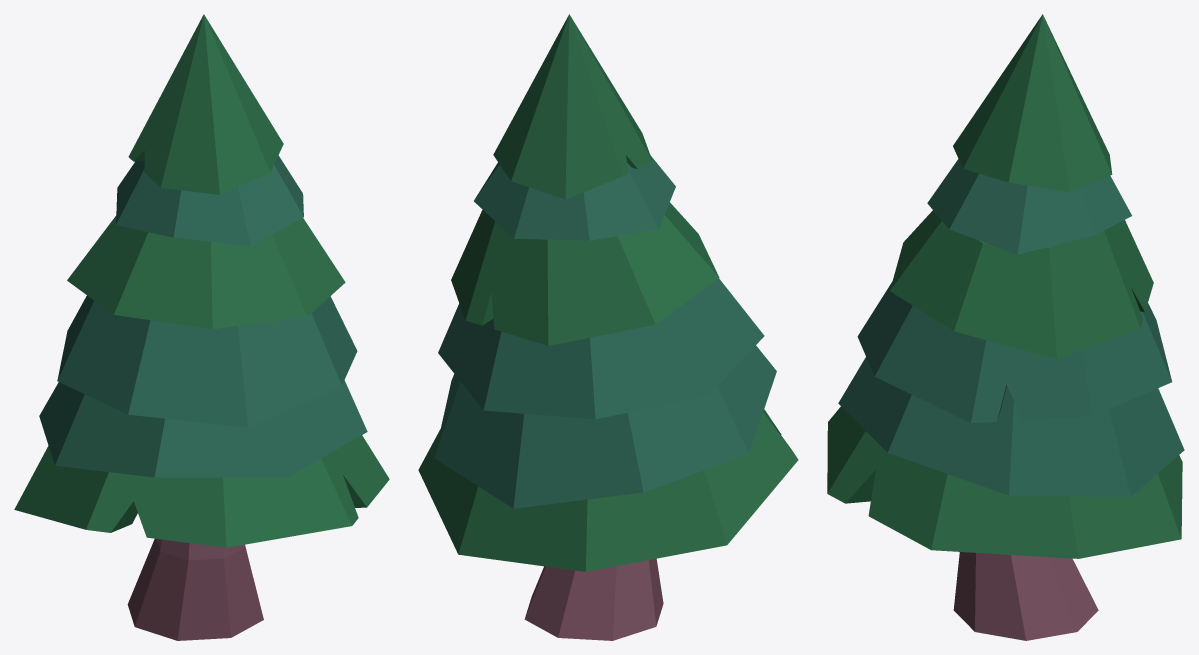
Rendered from evergreen_2.fbx.
The picture shows the model from 3 angles, left to right: view 1: azimuth 30°, elevation 25°; view 2: azimuth 150°, elevation 25°; view 3: azimuth 270°, elevation 25°; orthographic projection. The views are drawn at different scales.
Visible parts, largest first — view 1: Cylinder.003, Cylinder.001, Cylinder.004, Cylinder.002, Cylinder.006, wood, Cylinder.005; view 2: Cylinder.002, Cylinder.001, Cylinder.003, Cylinder.004, Cylinder.006, Cylinder.005, wood; view 3: Cylinder.004, Cylinder.001, Cylinder.002, Cylinder.003, Cylinder.006, Cylinder.005, wood.
Part boxes in pixels (box(x1,y1,x2,y2)): Cylinder.003: box(57, 295, 357, 427); Cylinder.001: box(14, 435, 389, 547); Cylinder.004: box(67, 215, 345, 329); Cylinder.002: box(39, 380, 367, 477); Cylinder.006: box(128, 14, 283, 194); wood: box(127, 538, 263, 640); Cylinder.005: box(116, 155, 303, 246); Cylinder.002: box(434, 345, 776, 508); Cylinder.001: box(418, 409, 798, 571); Cylinder.003: box(438, 278, 764, 419); Cylinder.004: box(451, 202, 719, 345); Cylinder.006: box(493, 14, 652, 199); Cylinder.005: box(474, 155, 675, 240); wood: box(524, 558, 663, 640); Cylinder.004: box(890, 210, 1153, 358); Cylinder.001: box(827, 406, 1182, 558); Cylinder.002: box(838, 357, 1184, 496); Cylinder.003: box(857, 282, 1172, 423); Cylinder.006: box(953, 14, 1112, 192); Cylinder.005: box(927, 159, 1131, 254); wood: box(953, 552, 1098, 640).
Bounding box in the file's own units: 1951 × 1972 × 3641.
